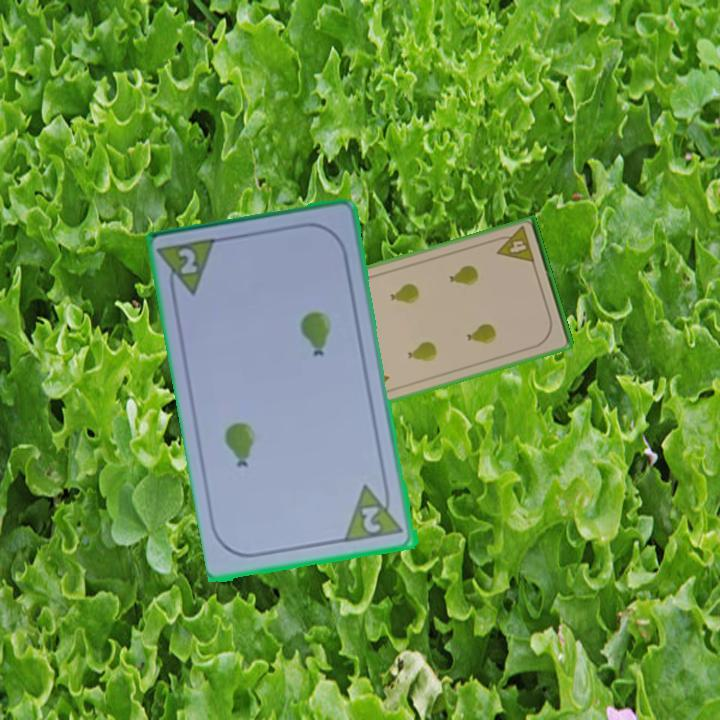2p: (157, 234, 222, 303), (342, 479, 407, 546)
4p: (490, 223, 537, 266)
